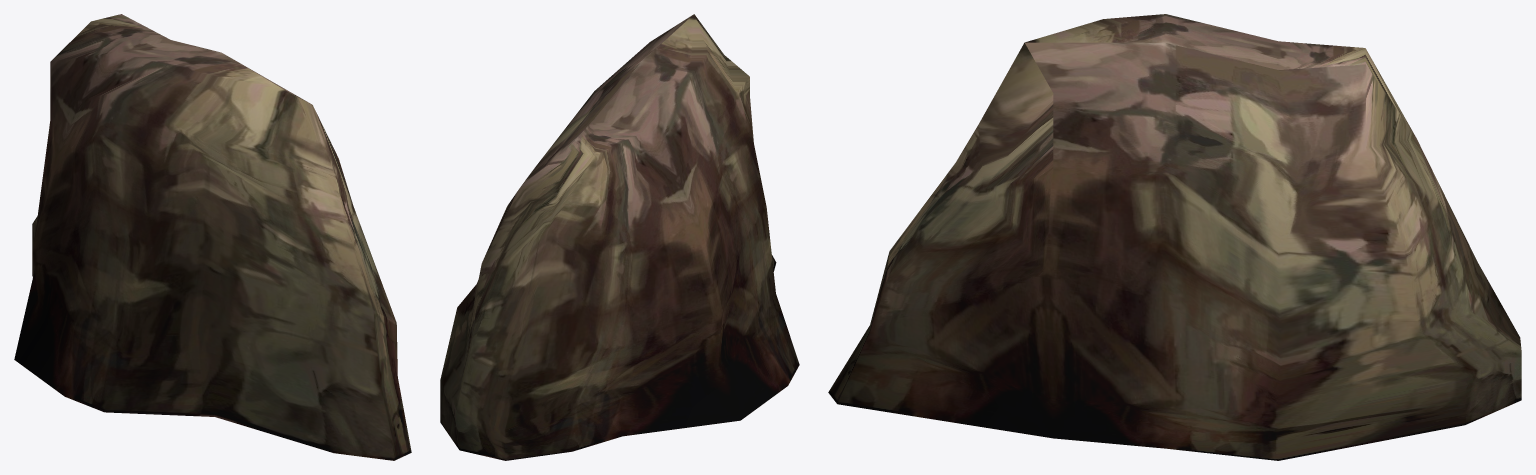
File: mound_brown_large.fbx
3 renders of one model, left to right at view 1: azimuth 30°, elevation 25°; view 2: azimuth 150°, elevation 25°; view 3: azimuth 270°, elevation 25°, orthographic. The views are drawn at different scales.
Parts seen in each view (by area): view 1: mound_large_high; view 2: mound_large_high; view 3: mound_large_high.
Part boxes in pixels (x1,y1,x2,y2): mound_large_high: (14, 14, 411, 460); mound_large_high: (440, 14, 799, 460); mound_large_high: (828, 14, 1521, 460).
Bounding box in the file's own units: 24809 × 24331 × 44299.
1 material, 1 textured.
